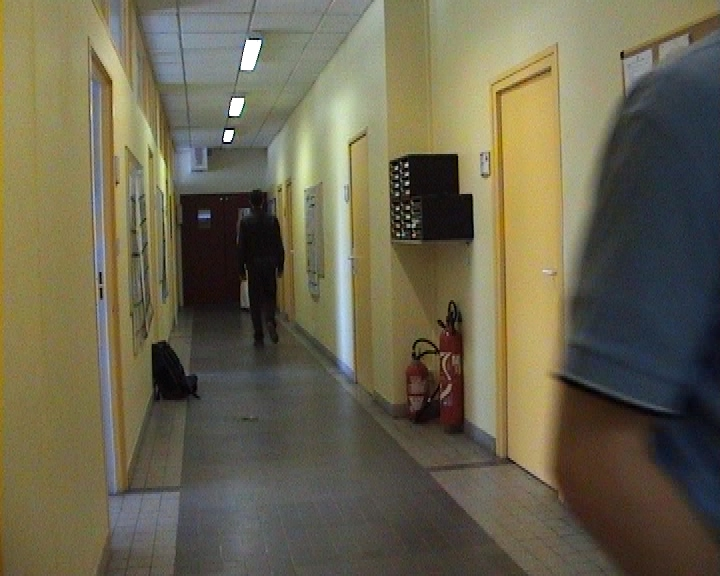leave bag unattended: (139, 335, 225, 430)
